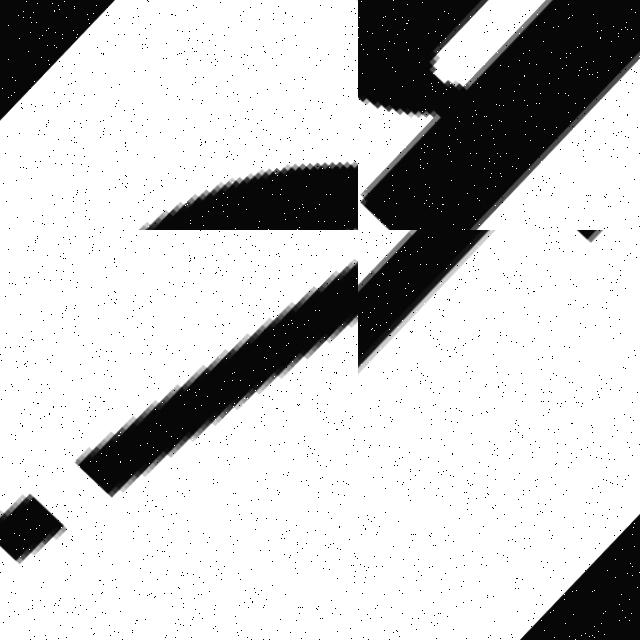1: (358, 230, 618, 620)
9: (0, 14, 358, 230)
H: (358, 0, 640, 230)
J: (0, 230, 358, 640)
